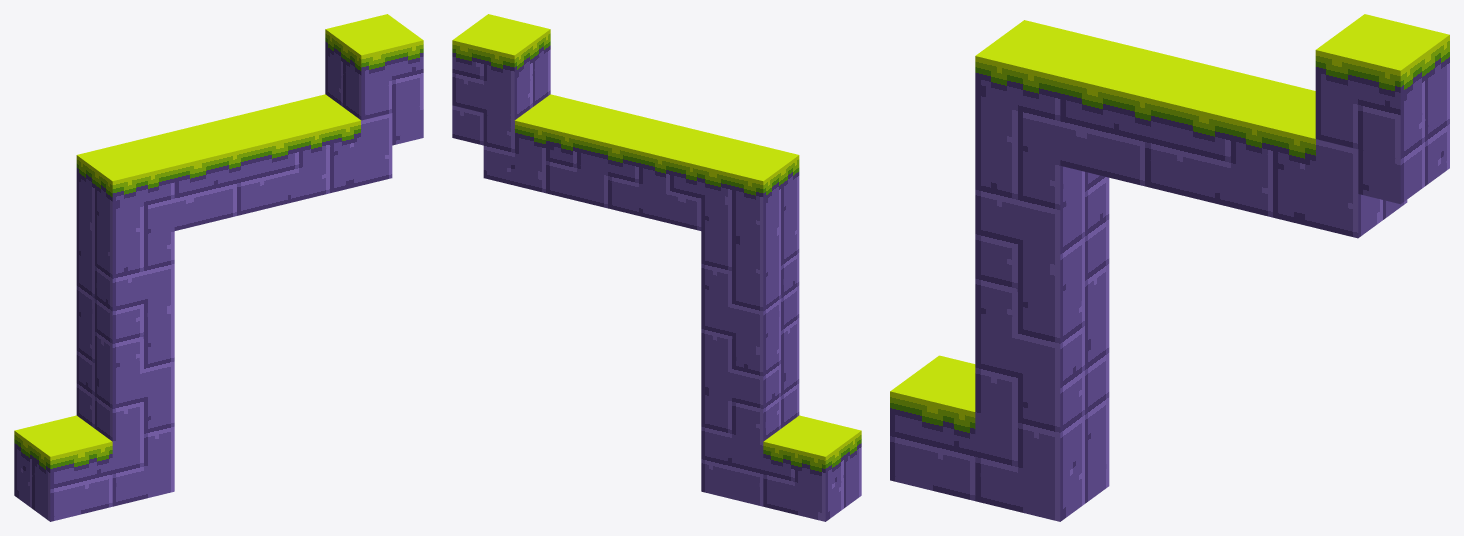
Rendered from stargate_ruin_aao.fezao.glb.
The picture shows the model from 3 angles, left to right: view 1: azimuth 30°, elevation 25°; view 2: azimuth 150°, elevation 25°; view 3: azimuth 330°, elevation 25°; orthographic projection. The views are drawn at different scales.
Visible parts, largest first — view 1: STARGATE_RUIN_AAO; view 2: STARGATE_RUIN_AAO; view 3: STARGATE_RUIN_AAO.
Boxes of the visible parts, x1=… form: STARGATE_RUIN_AAO: x1=14, y1=14, x2=423, y2=521; STARGATE_RUIN_AAO: x1=452, y1=14, x2=861, y2=521; STARGATE_RUIN_AAO: x1=890, y1=14, x2=1449, y2=521.
Size of the model in its own units: 6 by 6 by 1.
1 material, 1 textured.
